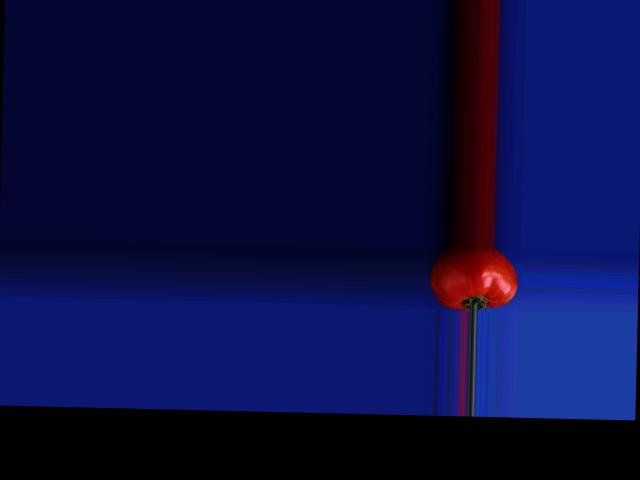tomato: (428, 245, 517, 312)
